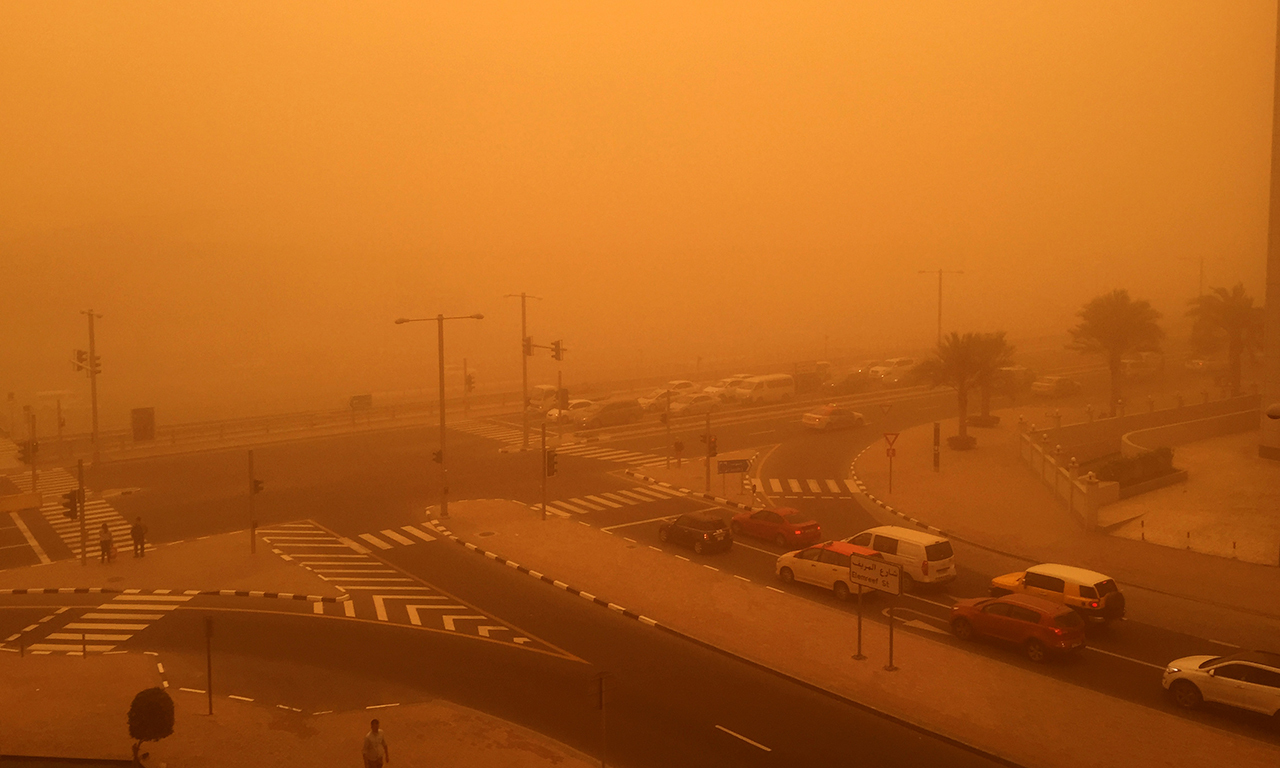car: (949, 590, 1092, 661), (1160, 647, 1279, 720), (1000, 562, 1125, 626), (853, 517, 953, 585), (778, 536, 875, 600), (732, 508, 827, 552), (655, 506, 732, 556), (575, 400, 637, 428), (799, 403, 858, 432), (738, 376, 797, 404), (1028, 367, 1079, 399), (994, 360, 1034, 390), (670, 394, 717, 417), (548, 397, 596, 419), (870, 355, 911, 376), (704, 379, 739, 401), (1123, 356, 1154, 380), (640, 390, 669, 410), (669, 378, 701, 393), (885, 371, 915, 386)
person: (359, 715, 388, 764), (95, 518, 115, 563), (129, 515, 148, 557)
truck: (527, 381, 594, 417)
